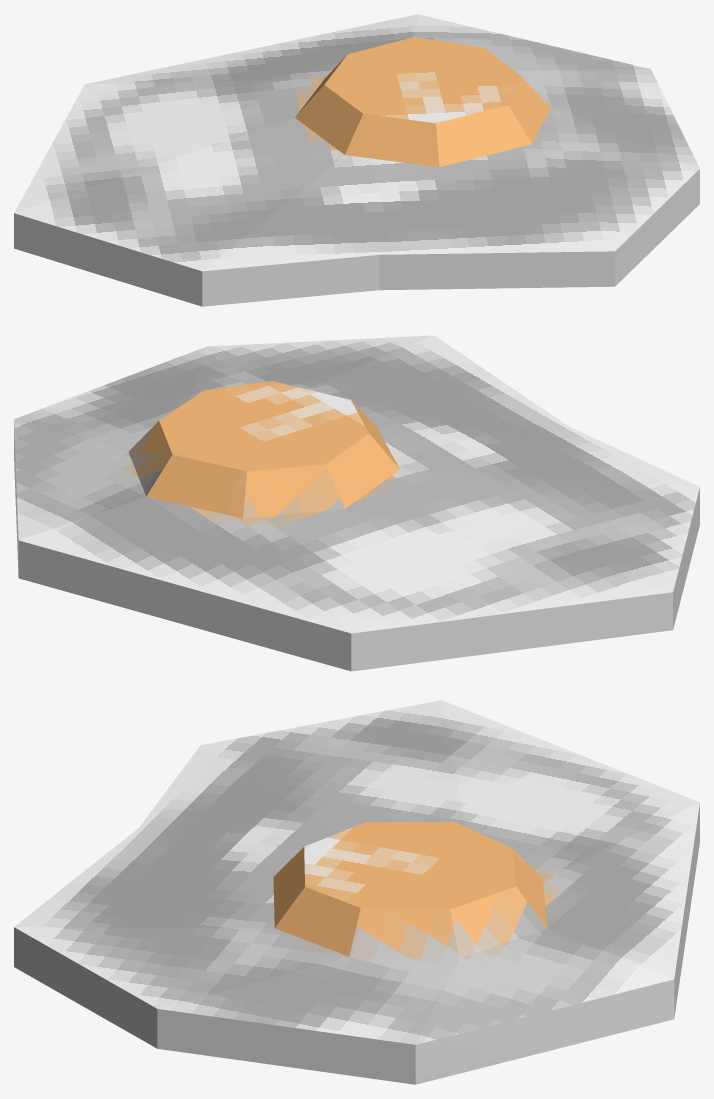
File: medamayaki.gltf
The picture shows the model from 3 angles, top to bottom: view 1: azimuth 30°, elevation 25°; view 2: azimuth 150°, elevation 25°; view 3: azimuth 270°, elevation 25°; orthographic projection. The views are drawn at different scales.
Parts seen in each view (by area): view 1: Cube; view 2: Cube; view 3: Cube.
Part boxes in pixels (x1,y1,x2,y2): Cube: [14, 14, 699, 306]; Cube: [14, 335, 699, 671]; Cube: [14, 700, 699, 1084].
Size of the model in its own units: 0.3009 by 0.0376 by 0.2531.
Materials: 1 (1 with a texture image).
